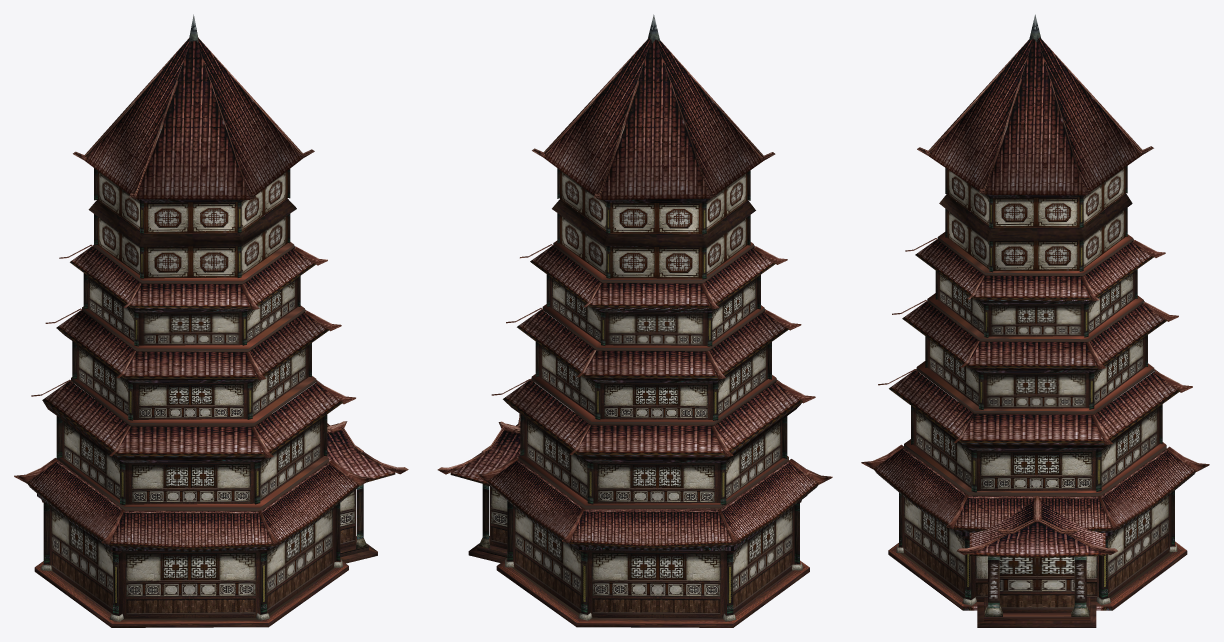
File: a1-013-6tower_lod_01.glb
3 renders of one model, left to right at view 1: azimuth 30°, elevation 25°; view 2: azimuth 150°, elevation 25°; view 3: azimuth 270°, elevation 25°, orthographic. The views are drawn at different scales.
Parts seen in each view (by area): view 1: a1-013-6tower-01, a1-013-6tower-02; view 2: a1-013-6tower-01, a1-013-6tower-02; view 3: a1-013-6tower-01, a1-013-6tower-02.
Boxes of the visible parts, x1,y1,x2,y2 form: a1-013-6tower-01: (43, 14, 377, 618); a1-013-6tower-02: (14, 199, 408, 627); a1-013-6tower-01: (468, 14, 799, 618); a1-013-6tower-02: (437, 198, 832, 627); a1-013-6tower-01: (899, 14, 1174, 627); a1-013-6tower-02: (861, 194, 1209, 621).
Bounding box in the file's own units: 15.62 × 26.84 × 15.67.
2 materials, 2 textured.
